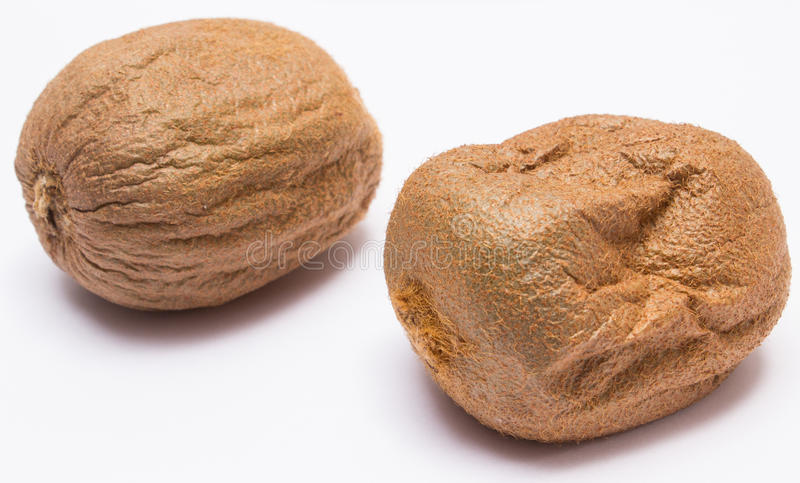damaged_kiwi: (394, 117, 792, 438), (20, 18, 380, 310)
